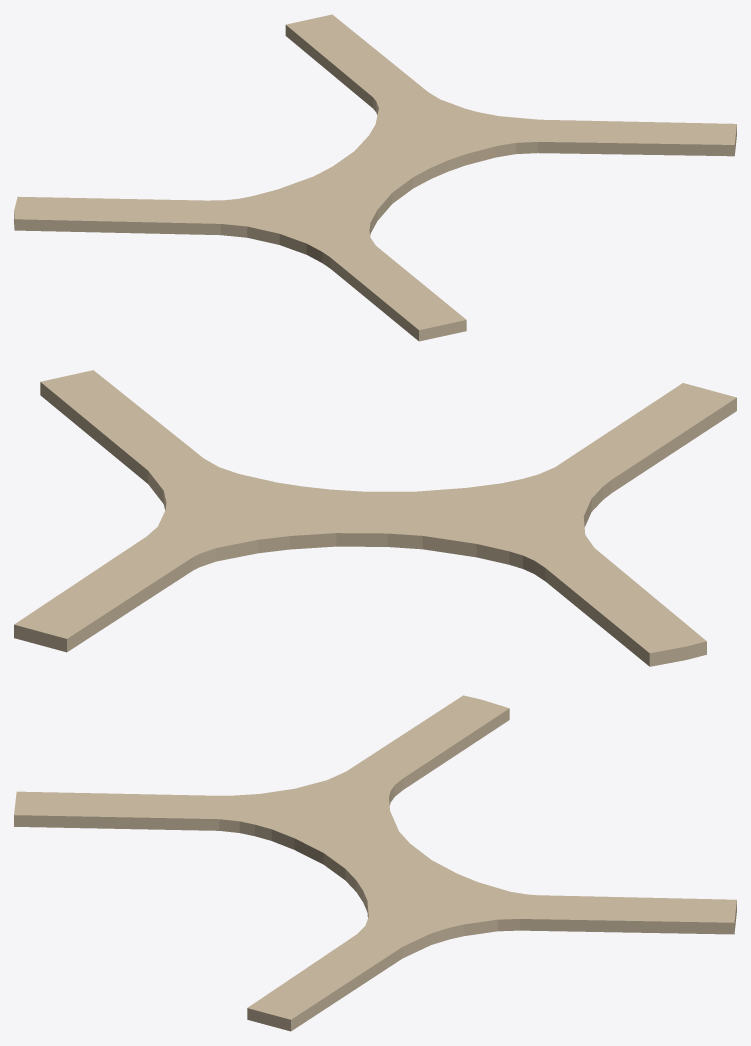
The model's file is -24_11-estimated-coarse.glb.
3 renders of one model, top to bottom at view 1: azimuth 30°, elevation 25°; view 2: azimuth 150°, elevation 25°; view 3: azimuth 270°, elevation 25°, orthographic. The views are drawn at different scales.
Bounding box in the file's own units: 713 × 12 × 672.
